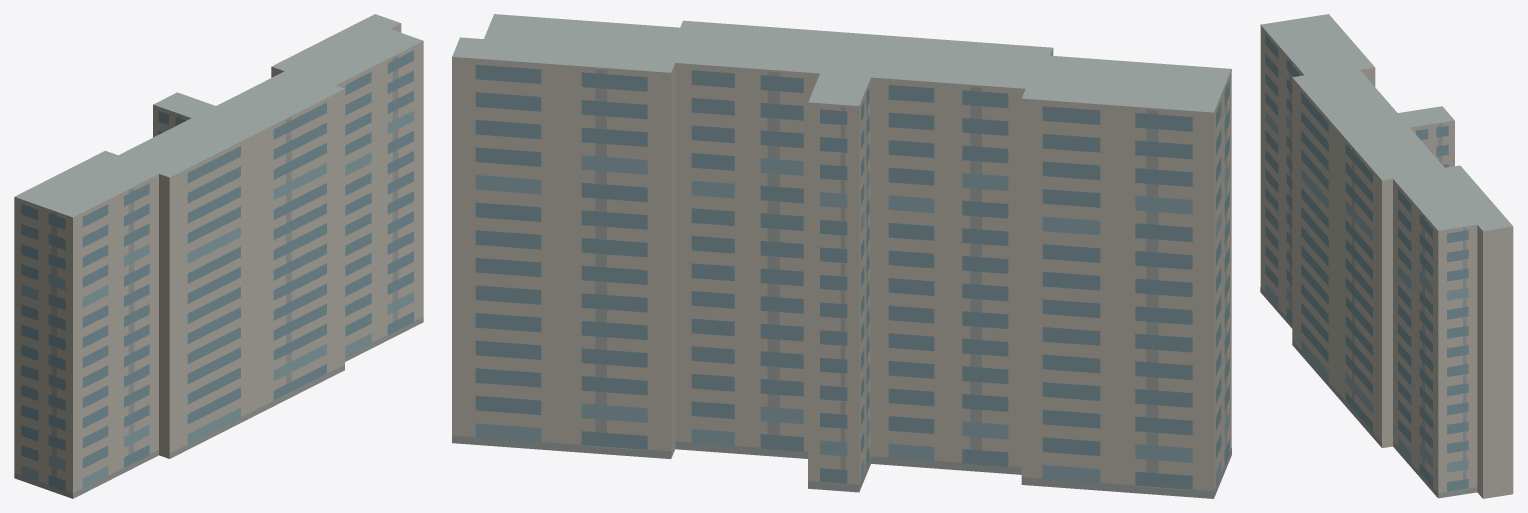
The model's file is residential-03aa338b-c218-464d-a551-3bdfaf1744c5.glb.
The picture shows the model from 3 angles, left to right: view 1: azimuth 30°, elevation 25°; view 2: azimuth 150°, elevation 25°; view 3: azimuth 270°, elevation 25°; orthographic projection. The views are drawn at different scales.
Parts seen in each view (by area): view 1: residential-03aa338b-c218-464d-a551-3bdfaf1744c5.tmp; view 2: residential-03aa338b-c218-464d-a551-3bdfaf1744c5.tmp; view 3: residential-03aa338b-c218-464d-a551-3bdfaf1744c5.tmp.
Part boxes in pixels (left/top/right/bottom): residential-03aa338b-c218-464d-a551-3bdfaf1744c5.tmp: left=14, top=14, right=423, bottom=498; residential-03aa338b-c218-464d-a551-3bdfaf1744c5.tmp: left=452, top=14, right=1231, bottom=498; residential-03aa338b-c218-464d-a551-3bdfaf1744c5.tmp: left=1260, top=14, right=1513, bottom=498.
Bounding box in the file's own units: 74.32 × 42.7 × 36.58.
